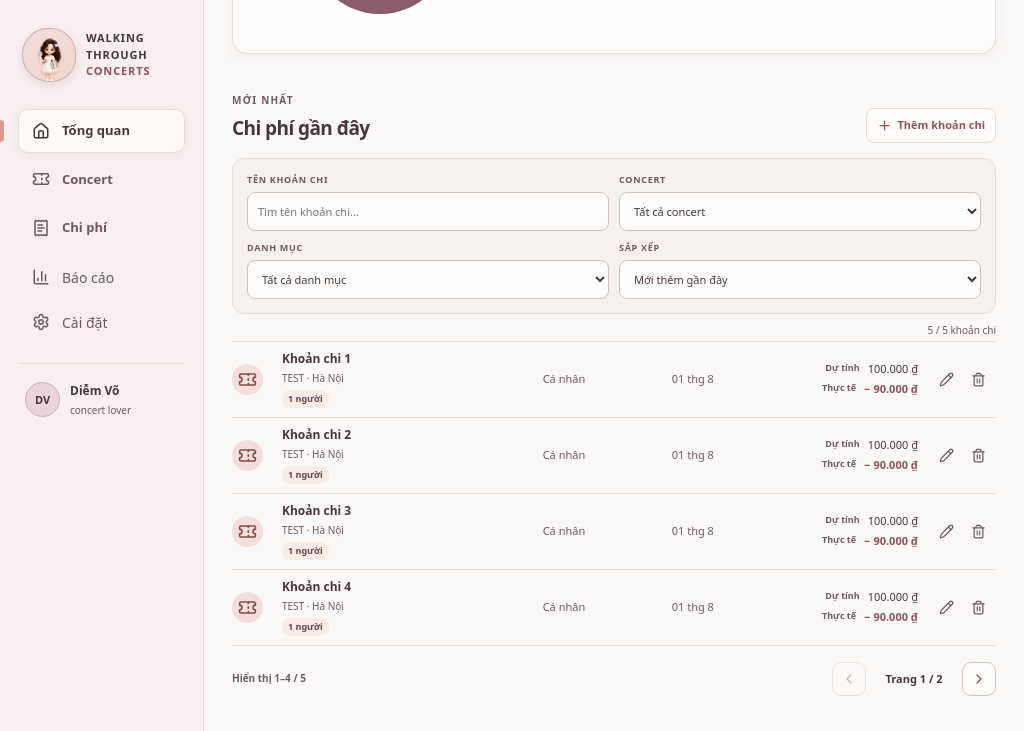
it: Walking Through Concerts dashboard › returns to a valid page when deleting the only item on the last page
The image size is (1024, 731).
(page scrolled)
Click the button named "Trang sau của Chi phí gần đây": (979, 679) x1=962 y1=662 x2=996 y2=696
(page scrolled)
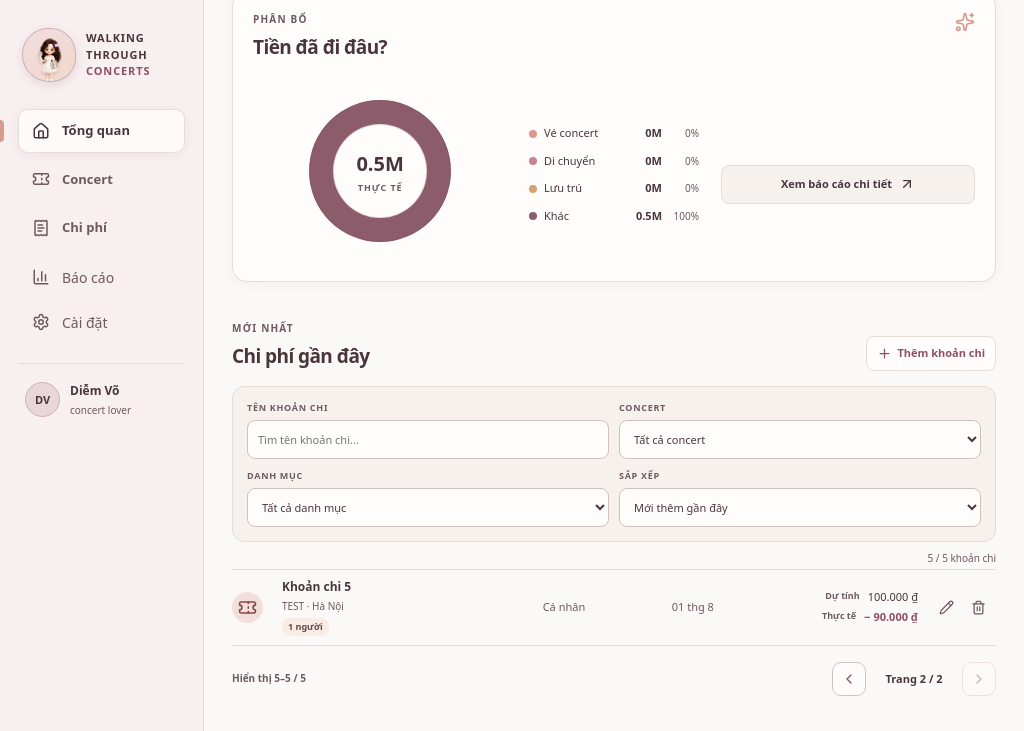
Expected: the text "Khoản chi 5" is shown, x1=282 y1=578 x2=351 y2=595
Click the button named "Xóa Khoản chi 5": (978, 607) x1=964 y1=593 x2=993 y2=622
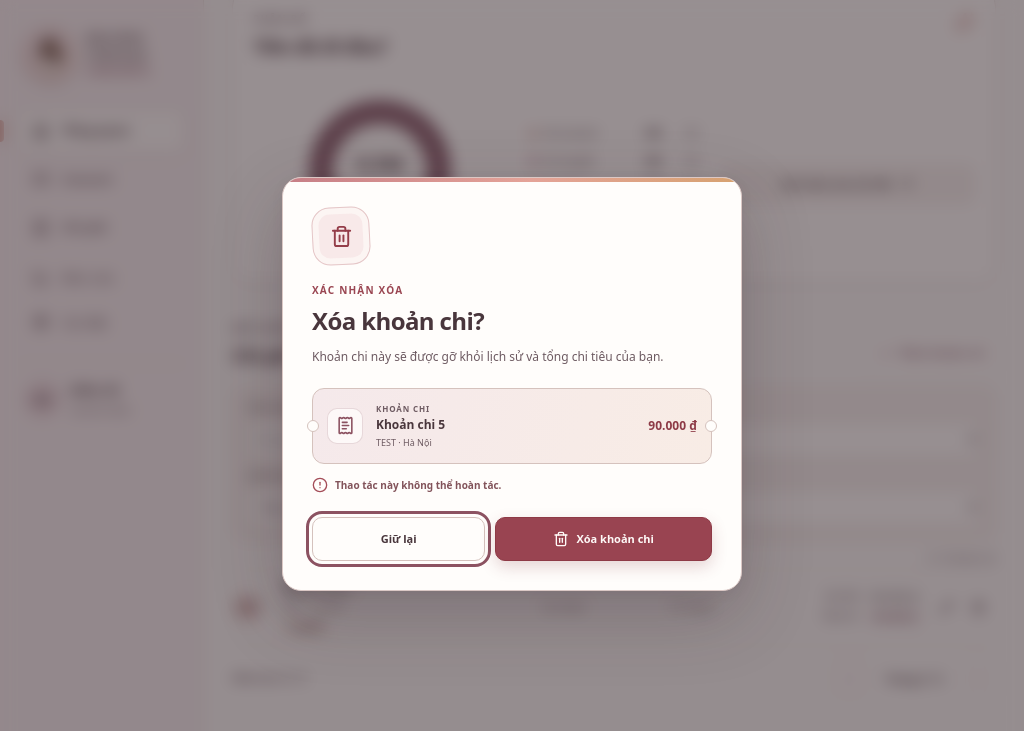
Click the button "Xóa khoản chi": (604, 539) x1=495 y1=517 x2=712 y2=561
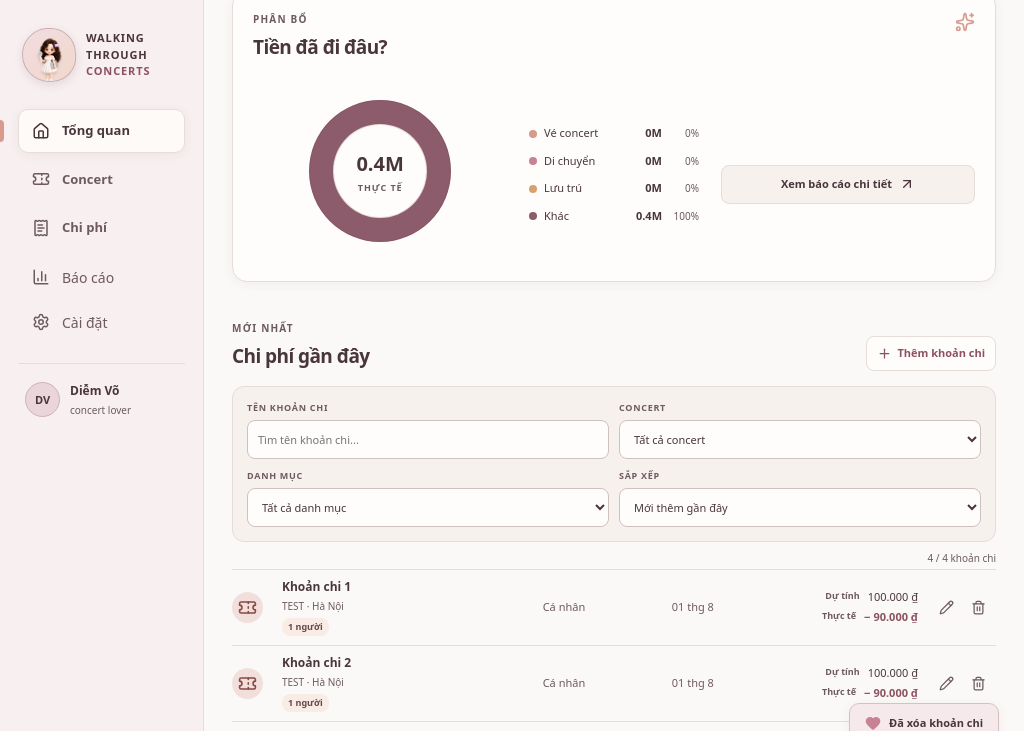
Expected: the text "Khoản chi 1" is shown, x1=282 y1=578 x2=351 y2=595
